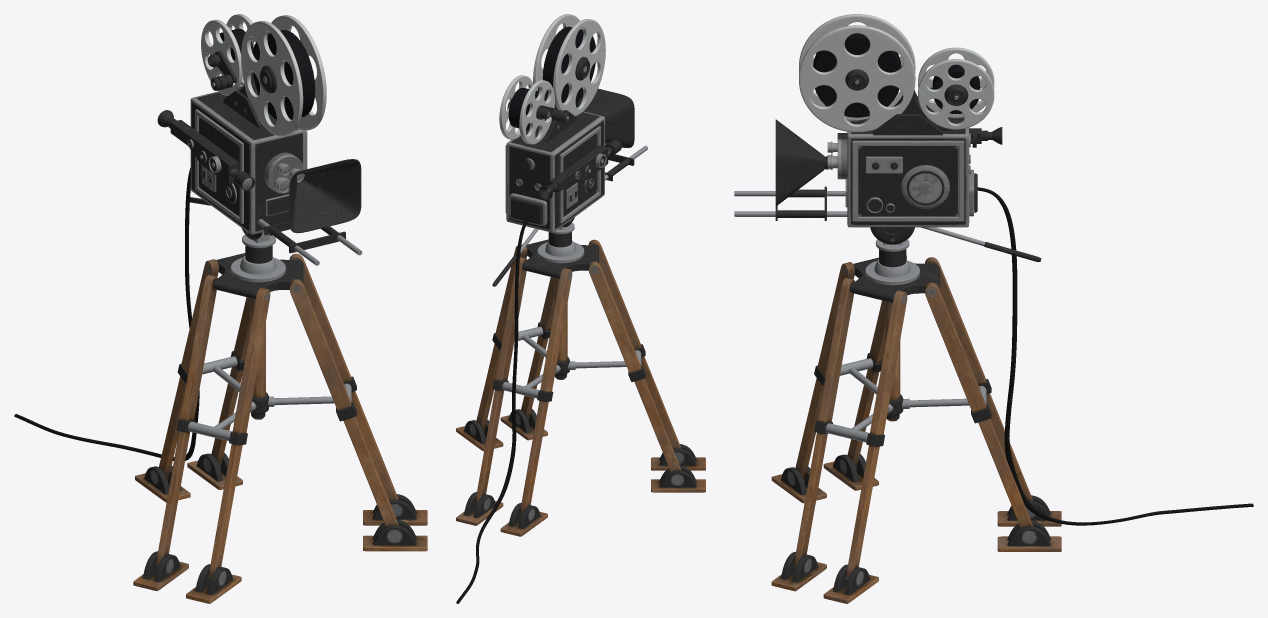
File: cameras.glb
3 views of the same model, side by side, from view 1: azimuth 30°, elevation 25°; view 2: azimuth 150°, elevation 25°; view 3: azimuth 270°, elevation 25° (orthographic). The views are drawn at different scales.
Parts seen in each view (by area): view 1: mainBody, pPlane1001, pPlane19002, pCube7001, polySurface6011, polySurface6008, polySurface6007, pCylinder93002, pCube23001, pPlane19004, pPlane19001, Wire1 (+16 smaller); view 2: mainBody, pPlane19002, pPlane1001, pCube7001, Wire1, polySurface6007, polySurface6002, pPlane19004, pCube23001, polySurface6001, pCylinder93002, pCube27006 (+24 smaller); view 3: pPlane19001, pCube7002, pPlane19005, mainBody, Wire1, pPlane1001, pCylinder93002, polySurface6001, polySurface6012, polySurface6011, pPlane19002, pCube23001 (+13 smaller).
Boxes of the visible parts, left/top/right/bottom form: mainBody: left=190, top=85, right=306, bottom=234; pPlane1001: left=289, top=159, right=361, bottom=233; pPlane19002: left=241, top=21, right=303, bottom=136; pCube7001: left=195, top=109, right=243, bottom=223; polySurface6011: left=289, top=279, right=351, bottom=410; polySurface6008: left=232, top=287, right=270, bottom=433; polySurface6007: left=180, top=275, right=217, bottom=420; pCylinder93002: left=252, top=30, right=315, bottom=119; pCube23001: left=213, top=253, right=303, bottom=299; pPlane19004: left=201, top=19, right=242, bottom=95; pPlane19001: left=268, top=15, right=326, bottom=130; Wire1: left=14, top=167, right=199, bottom=460; mainBody: left=506, top=111, right=604, bottom=232; pPlane19002: left=553, top=19, right=605, bottom=116; pPlane1001: left=575, top=88, right=634, bottom=147; pCube7001: left=559, top=126, right=600, bottom=223; Wire1: left=456, top=212, right=533, bottom=603; polySurface6007: left=588, top=261, right=641, bottom=372; polySurface6002: left=540, top=268, right=572, bottom=391; pPlane19004: left=519, top=80, right=554, bottom=144; pCube23001: left=522, top=239, right=598, bottom=278; polySurface6001: left=495, top=257, right=527, bottom=380; pCylinder93002: left=542, top=26, right=595, bottom=102; pCube27006: left=634, top=378, right=681, bottom=471; pPlane19001: left=799, top=25, right=915, bottom=132; pCube7002: left=852, top=140, right=964, bottom=221; pPlane19005: left=918, top=59, right=994, bottom=129; mainBody: left=847, top=117, right=969, bottom=227; Wire1: left=977, top=187, right=1253, bottom=525; pPlane1001: left=775, top=119, right=824, bottom=206; pCylinder93002: left=813, top=33, right=901, bottom=117; polySurface6001: left=925, top=282, right=986, bottom=412; polySurface6012: left=870, top=290, right=907, bottom=434; polySurface6011: left=818, top=278, right=854, bottom=422; pPlane19002: left=799, top=14, right=915, bottom=120; pCube23001: left=850, top=257, right=939, bottom=302.
Bounding box in the file's own units: 41.05 × 69.98 × 63.43.
Materials: 1 (1 with a texture image).
